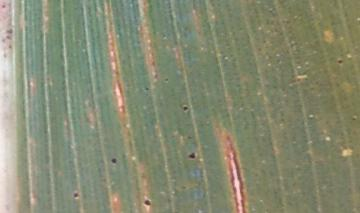tarspot: (142, 198, 152, 206), (187, 152, 197, 160), (109, 156, 118, 164), (71, 190, 79, 199), (181, 104, 190, 112), (335, 57, 343, 64), (185, 133, 193, 140), (5, 27, 13, 34), (143, 84, 150, 91), (6, 33, 12, 41), (7, 42, 13, 50), (1, 51, 7, 59), (162, 76, 169, 82), (1, 2, 7, 9), (1, 36, 7, 43)
